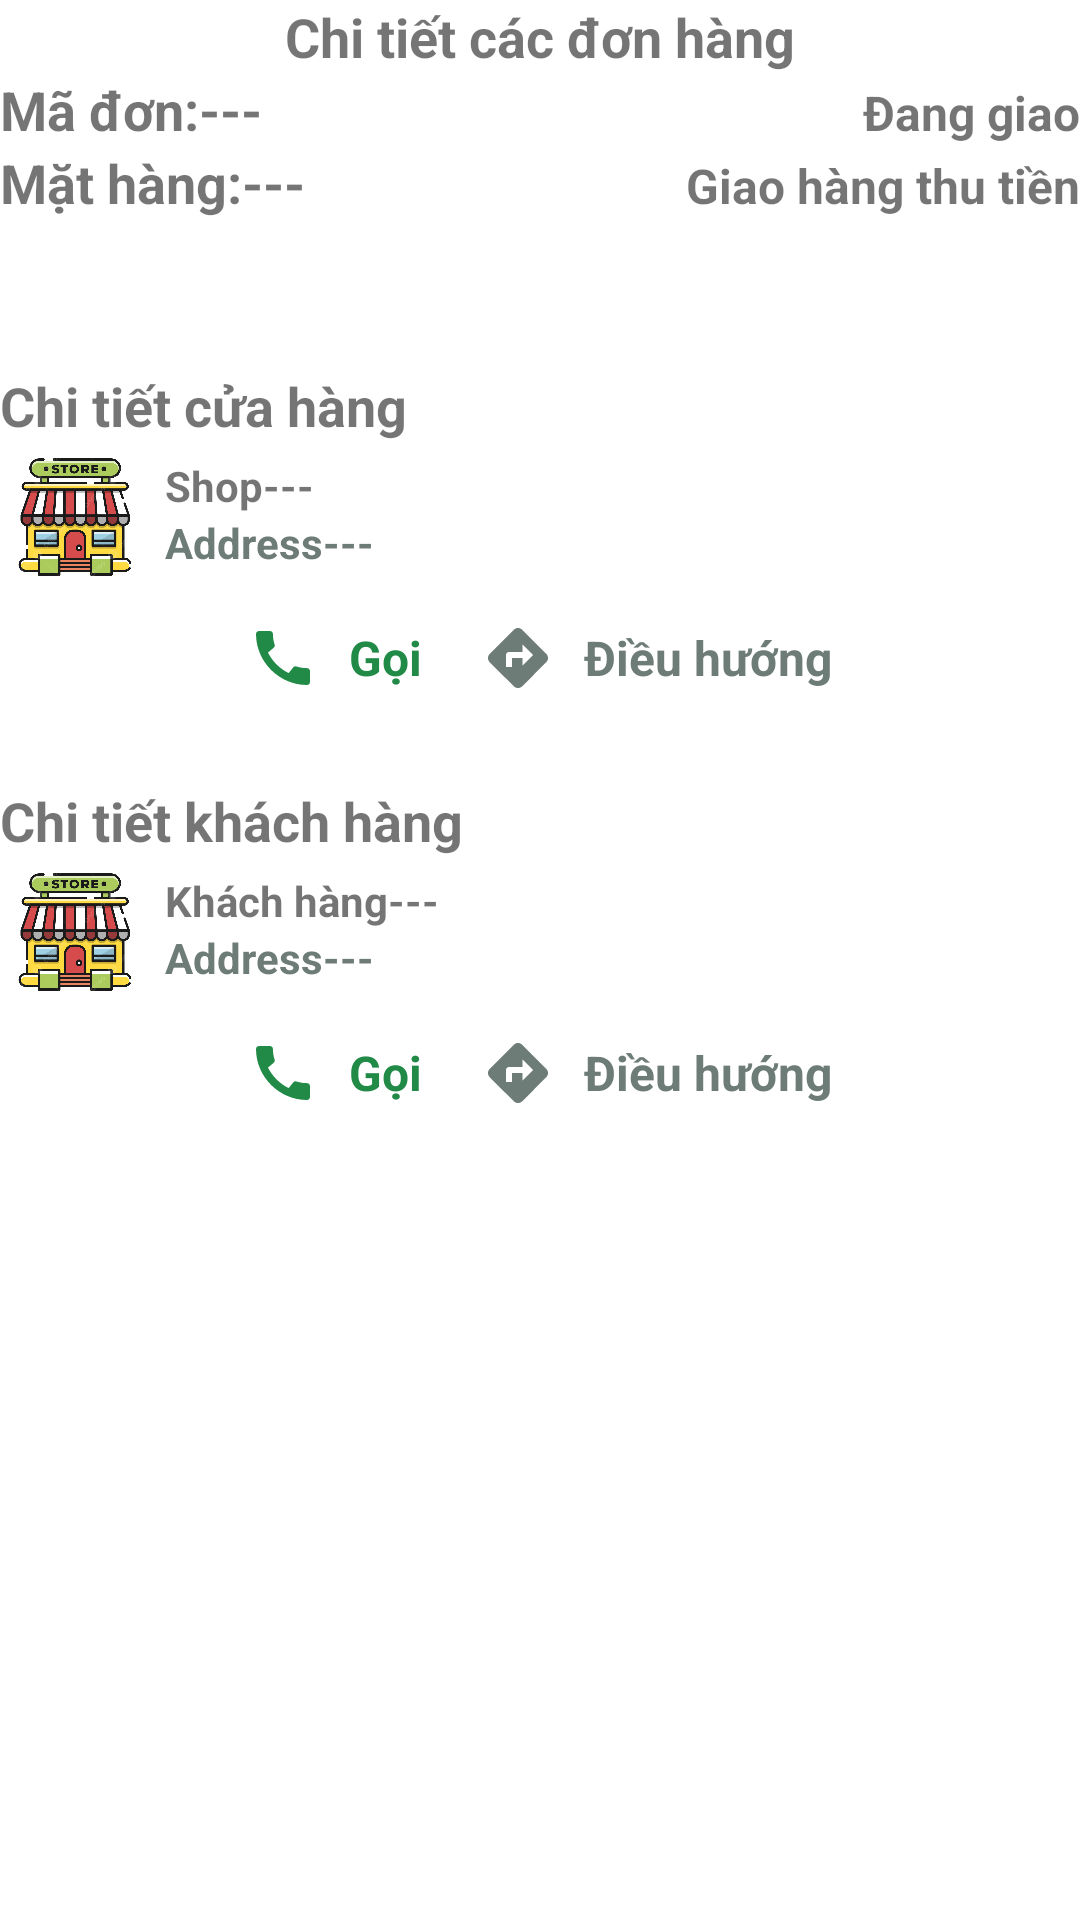

Point at icon controls on the screen. Image size 1080w x 1920h, points as [x,y].
call: [283,658], [283,1073]
directions: [518,658], [518,1073]
